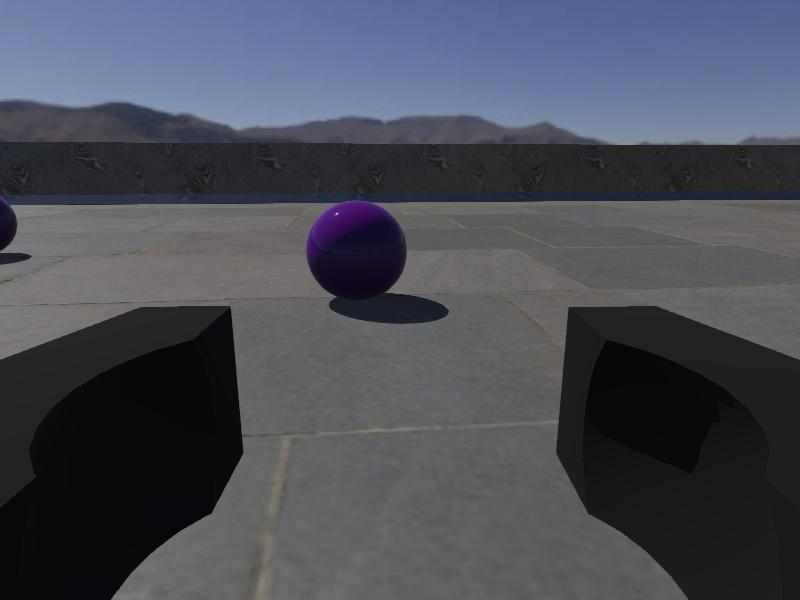violet ball: (306, 200, 407, 301)
